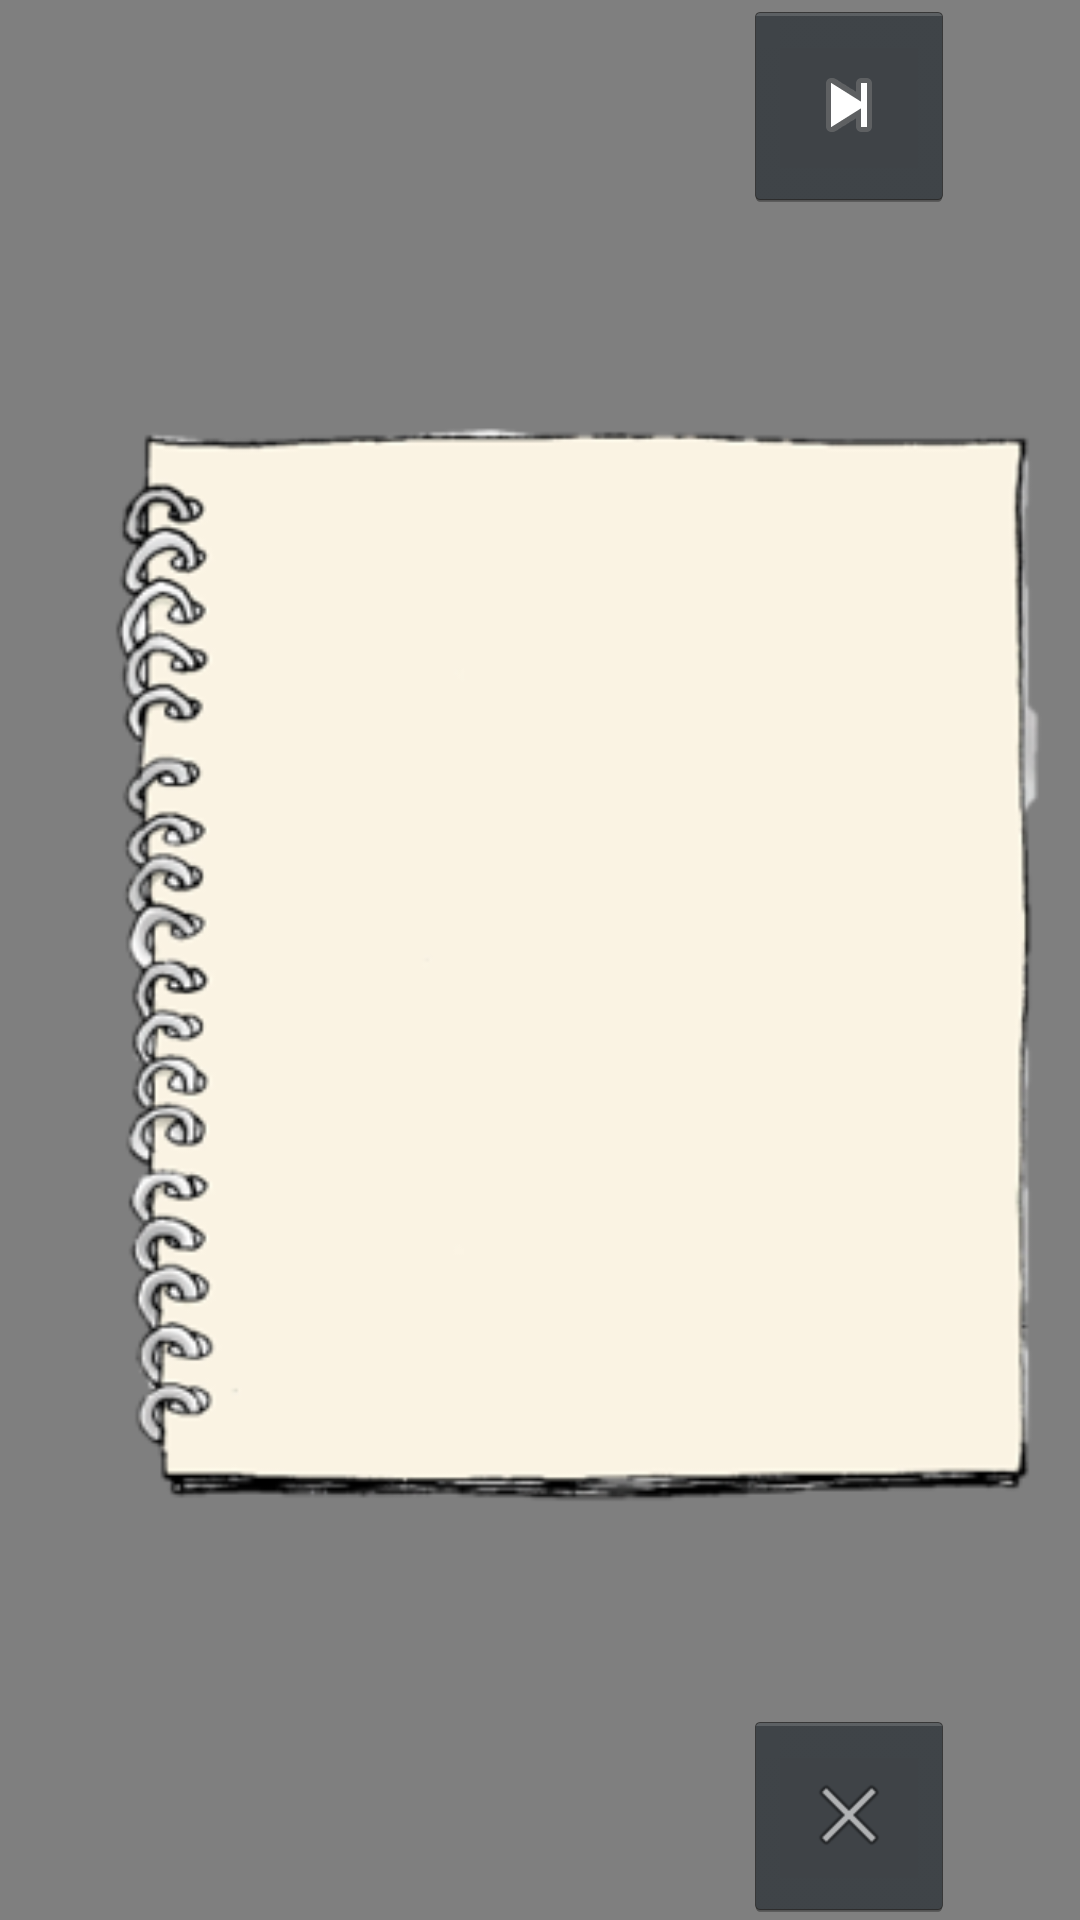

Named icons in this screenshot (1080 × 1920) and their centers, (x=x, y=y):
close clear cancel: (x=849, y=1817)
next: (x=849, y=107)
